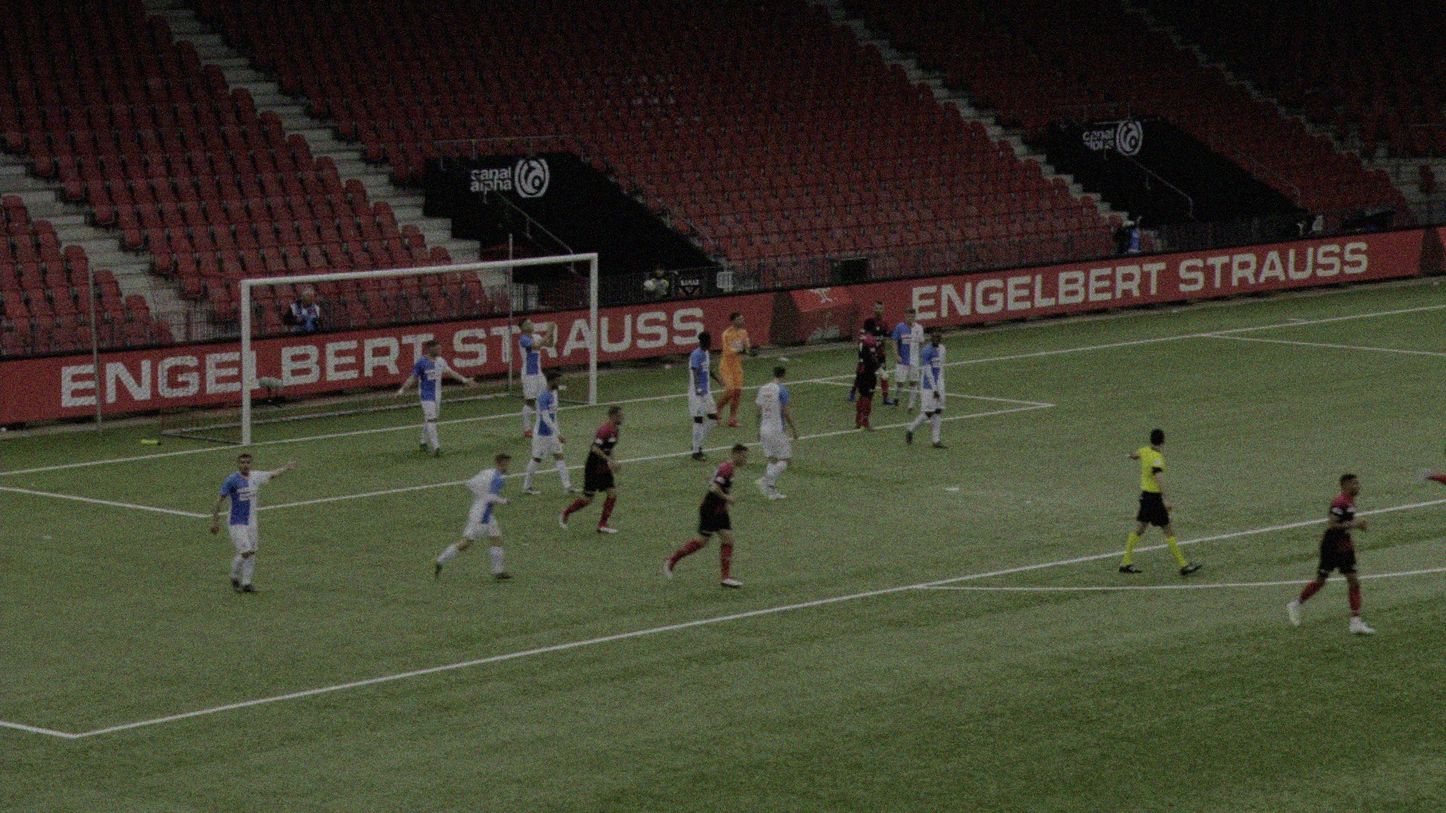goalkeeper: (708, 312, 758, 428)
player: (1283, 470, 1373, 635), (203, 452, 294, 597), (657, 442, 743, 586), (392, 338, 476, 455), (556, 403, 631, 534), (432, 455, 508, 584), (740, 364, 798, 503), (522, 368, 574, 498), (676, 330, 727, 461), (903, 329, 955, 447), (1388, 393, 1445, 498), (511, 318, 556, 435), (850, 297, 893, 406), (886, 306, 928, 413), (850, 316, 885, 431)
referee: (1107, 427, 1192, 575)
